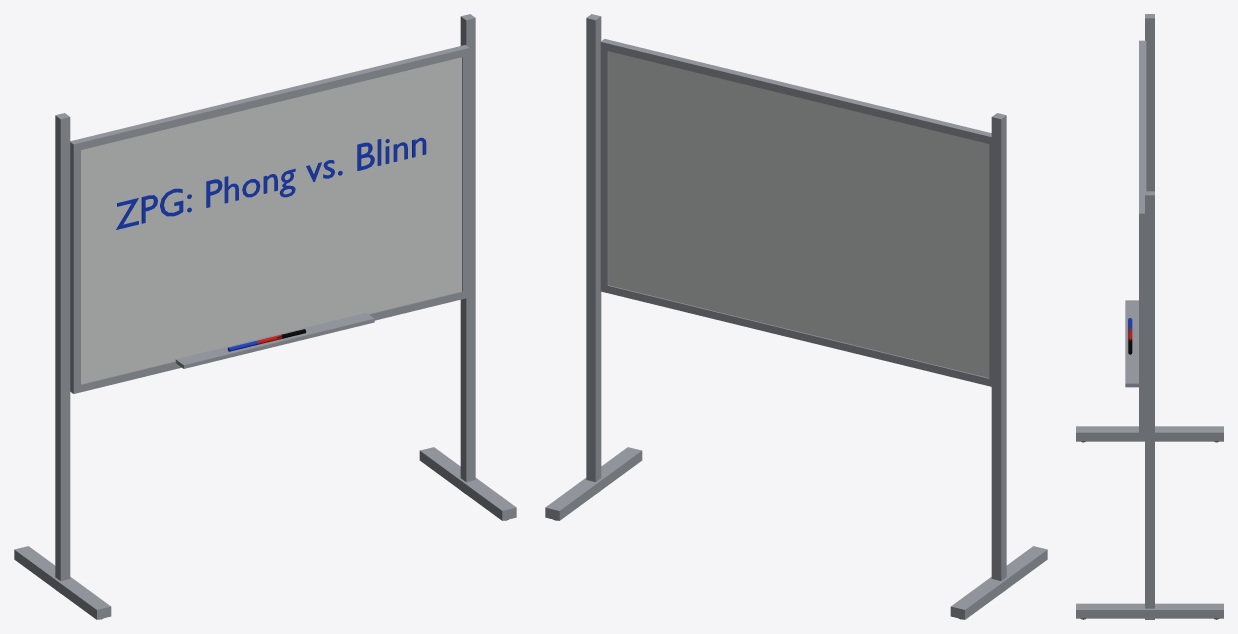
Rendered from whiteboard.obj.
The picture shows the model from 3 angles, left to right: view 1: azimuth 30°, elevation 25°; view 2: azimuth 150°, elevation 25°; view 3: azimuth 270°, elevation 25°; orthographic projection. The views are drawn at different scales.
Visible parts, largest first — view 1: whiteboard; view 2: whiteboard; view 3: whiteboard.
Boxes of the visible parts, x1,y1,x2,y2 form: whiteboard: [14, 14, 516, 619]; whiteboard: [545, 14, 1047, 619]; whiteboard: [1076, 14, 1223, 619].
Bounding box in the file's own units: 1.76 × 1.9 × 0.6.
